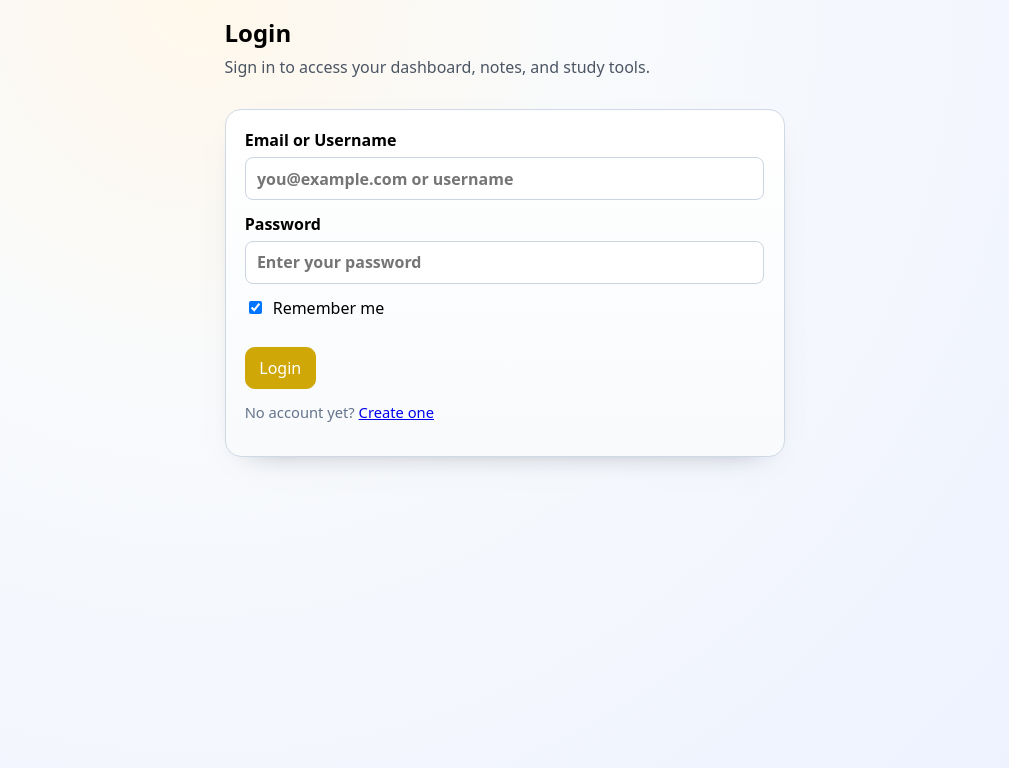
Test case: LoginPage › validates required fields
Click the button "Login" at (280, 368), box top-left (245, 347), bottom-right (316, 389)
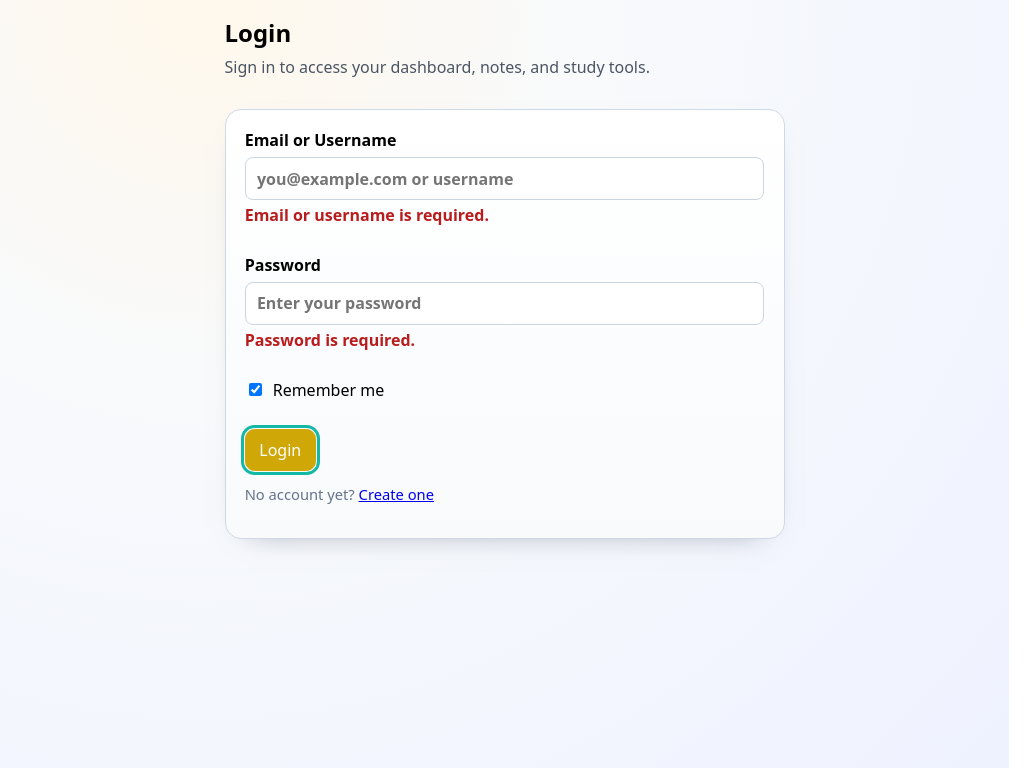
Expected: the text "Email or username is required." is shown, top-left (245, 204), bottom-right (489, 226)
Expected: the text "Password is required." is shown, top-left (245, 329), bottom-right (415, 351)
